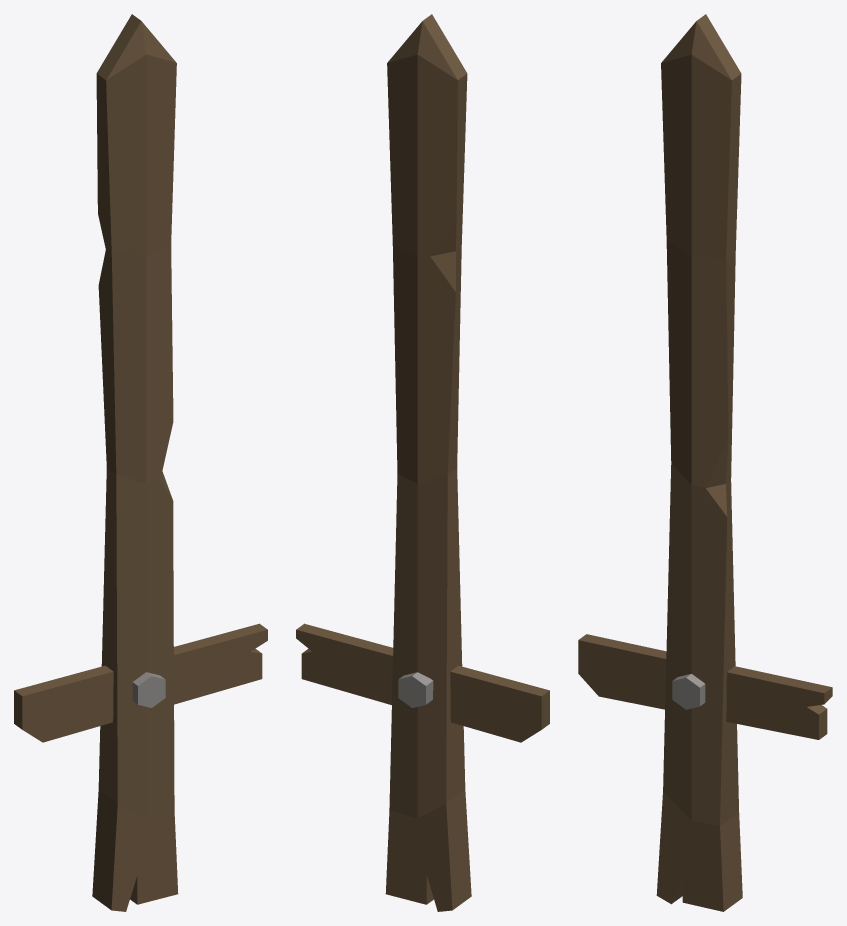
Rendered from SM_Wep_Wooden_01.glb.
3 views of the same model, side by side, from view 1: azimuth 30°, elevation 25°; view 2: azimuth 150°, elevation 25°; view 3: azimuth 330°, elevation 25° (orthographic).
Parts seen in each view (by area): view 1: SM_Wep_Wooden_01; view 2: SM_Wep_Wooden_01; view 3: SM_Wep_Wooden_01.
Part boxes in pixels (x1,y1,x2,y2): SM_Wep_Wooden_01: (14, 14, 267, 911); SM_Wep_Wooden_01: (296, 14, 549, 911); SM_Wep_Wooden_01: (578, 14, 832, 911).
Size of the model in its own units: 0.00261 by 0.00897 by 0.000554.
